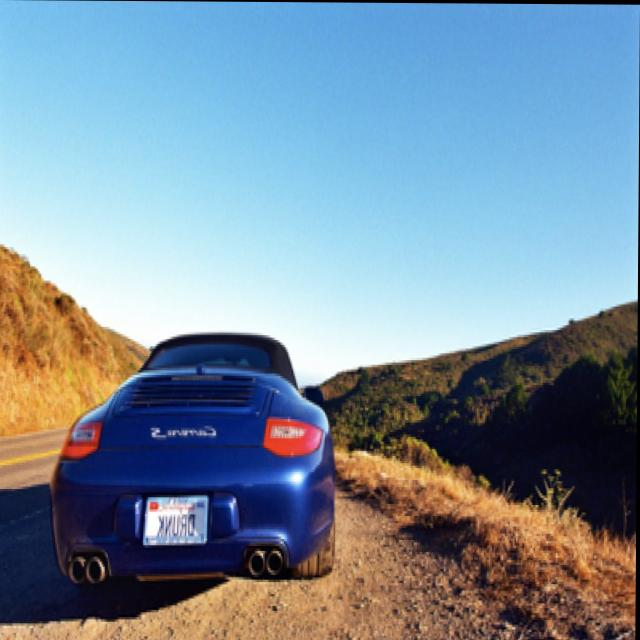licence: (144, 493, 208, 545)
